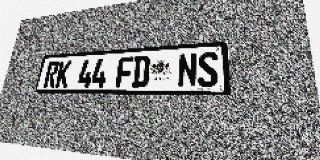4: (91, 58, 109, 88), (77, 59, 95, 88)
D: (131, 55, 150, 87)
F: (115, 56, 134, 87)
K: (55, 60, 72, 88)
N: (177, 53, 197, 87)
R: (43, 61, 60, 88)
S: (198, 51, 219, 87)
